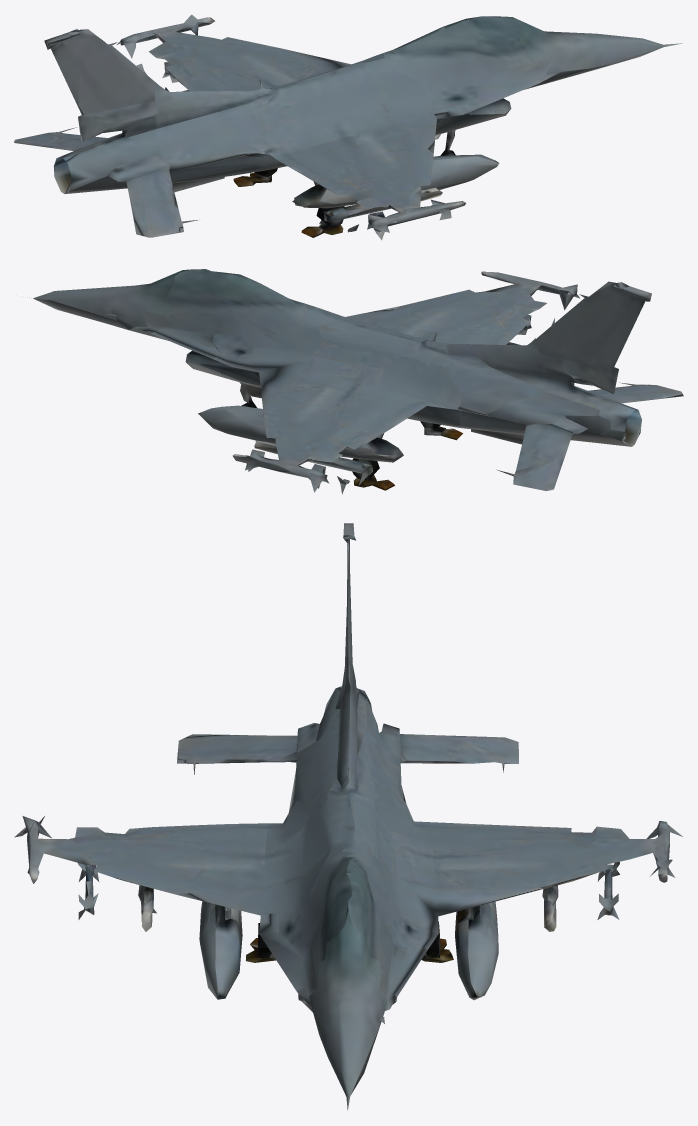
Rendered from jet_tempur_lod2.glb.
The picture shows the model from 3 angles, top to bottom: view 1: azimuth 30°, elevation 25°; view 2: azimuth 150°, elevation 25°; view 3: azimuth 270°, elevation 25°; orthographic projection. The views are drawn at different scales.
Visible parts, largest first — view 1: tripo_node_9caf1281; view 2: tripo_node_9caf1281; view 3: tripo_node_9caf1281.
Boxes of the visible parts, <box> form: tripo_node_9caf1281: <box>14,14,682,240</box>; tripo_node_9caf1281: <box>29,269,683,494</box>; tripo_node_9caf1281: <box>14,523,682,1110</box>.
Bounding box in the file's own units: 99.99 × 34.32 × 72.31.
1 material, 1 textured.
